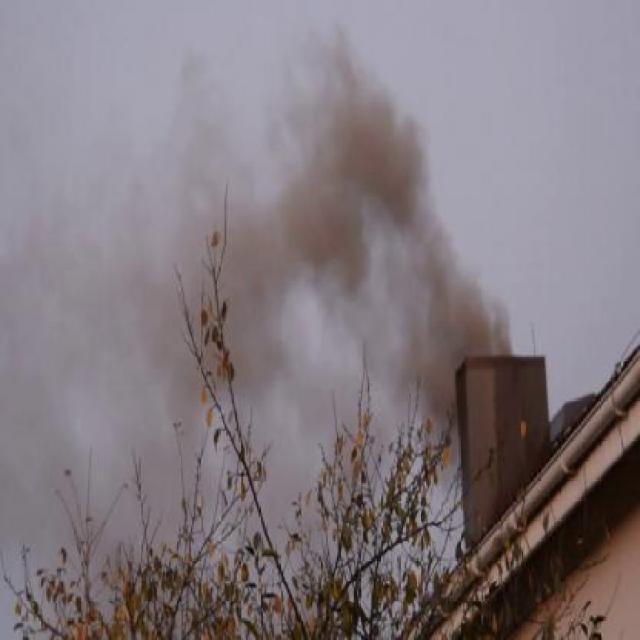smoke: (233, 54, 516, 356)
